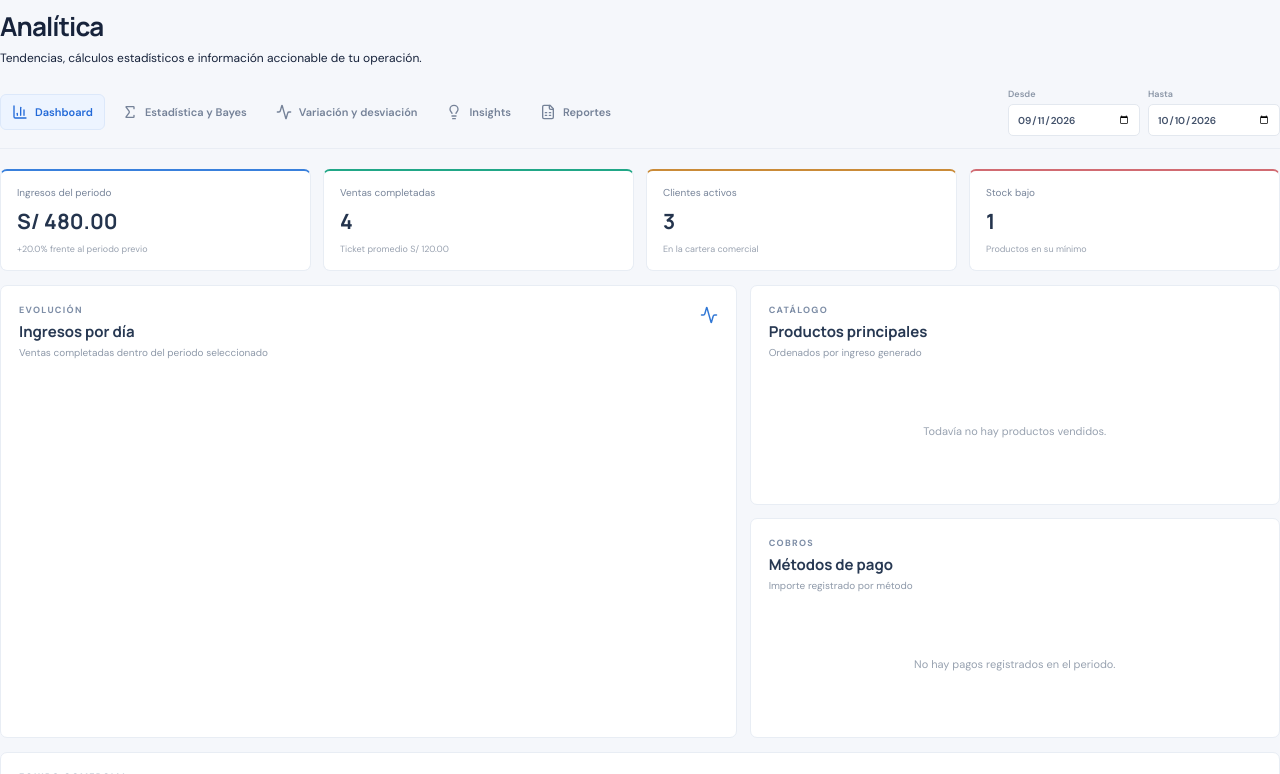
Test: AnalyticsPage › calcula y presenta correlación y operaciones vectoriales para dos variables
Step 1. Click the tab "Estadística y Bayes" → (184, 112), box [110,94,259,130]
(page scrolled)
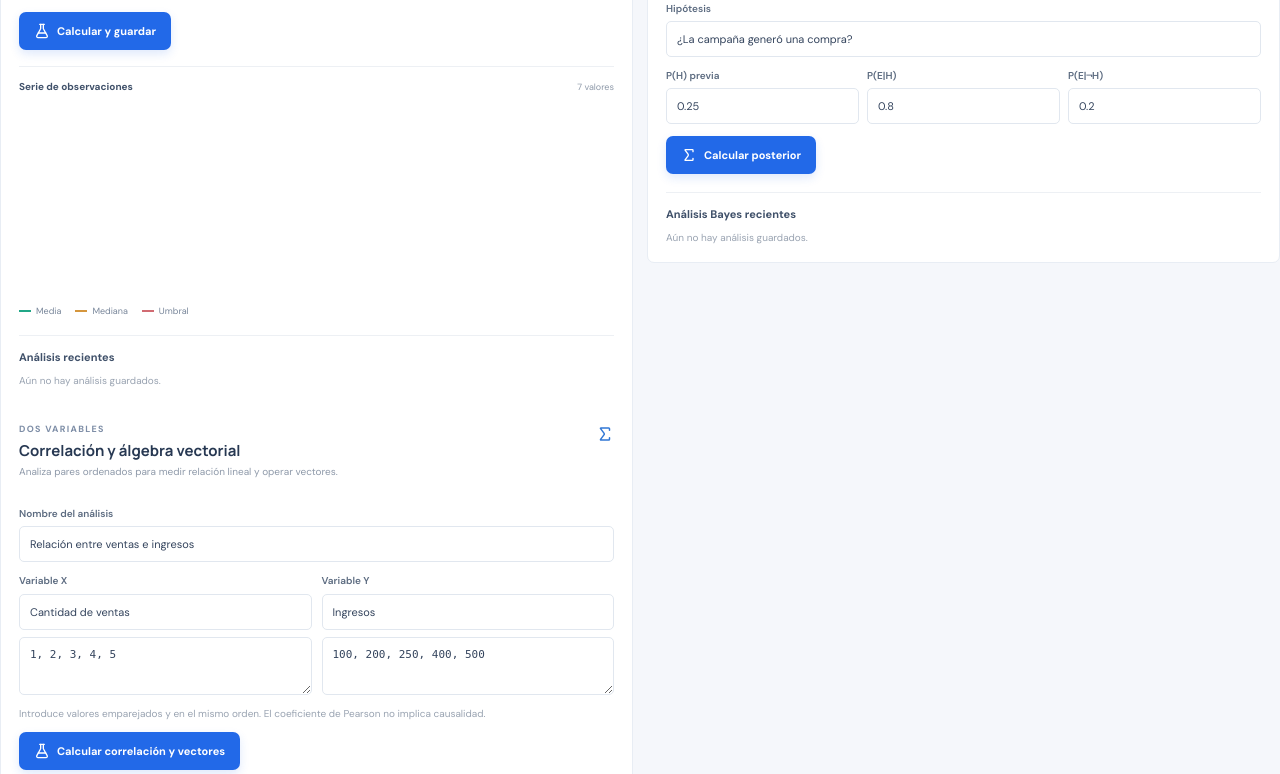
Step 2. Click the button "Calcular correlación y vectores" → (130, 751), box [19,732,240,770]
(page scrolled)
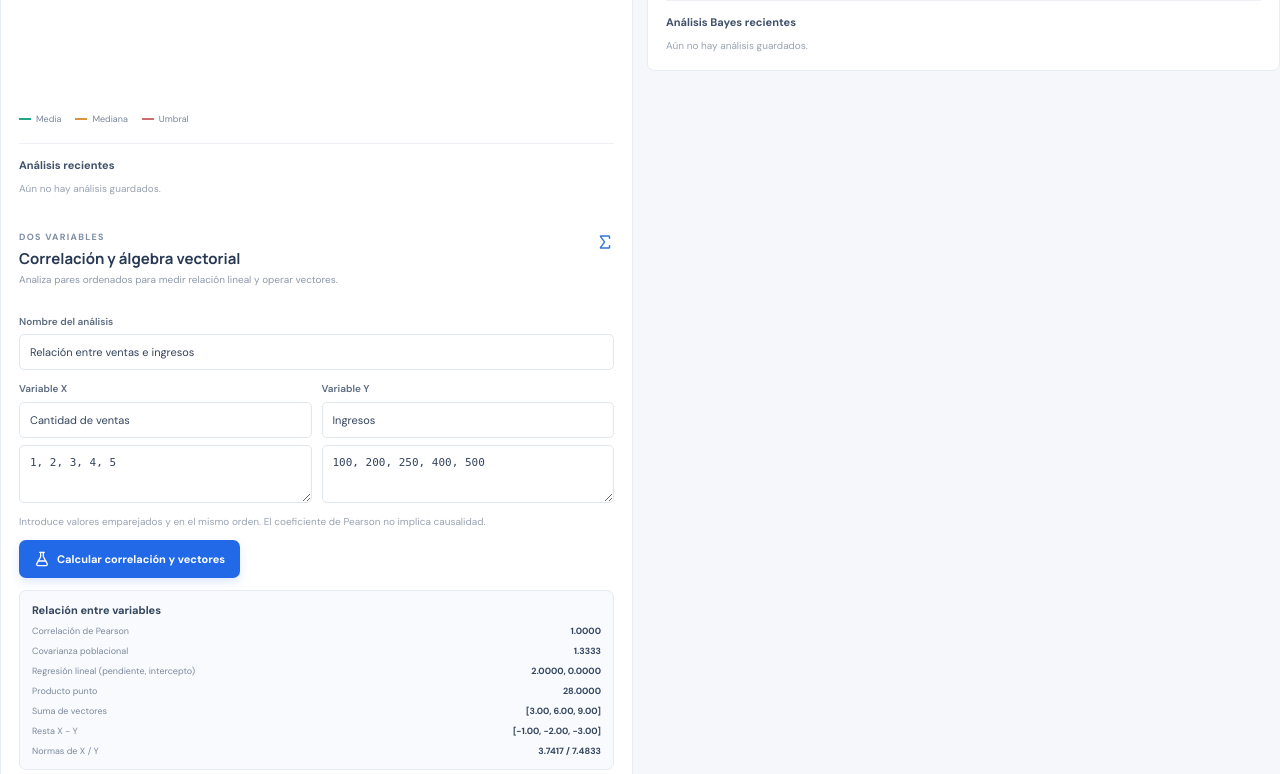
Check: the text "Correlación de Pearson" is shown, box [32,625,129,637]
Check: the text "[3.00, 6.00, 9.00]" is shown, box [526,705,601,717]
